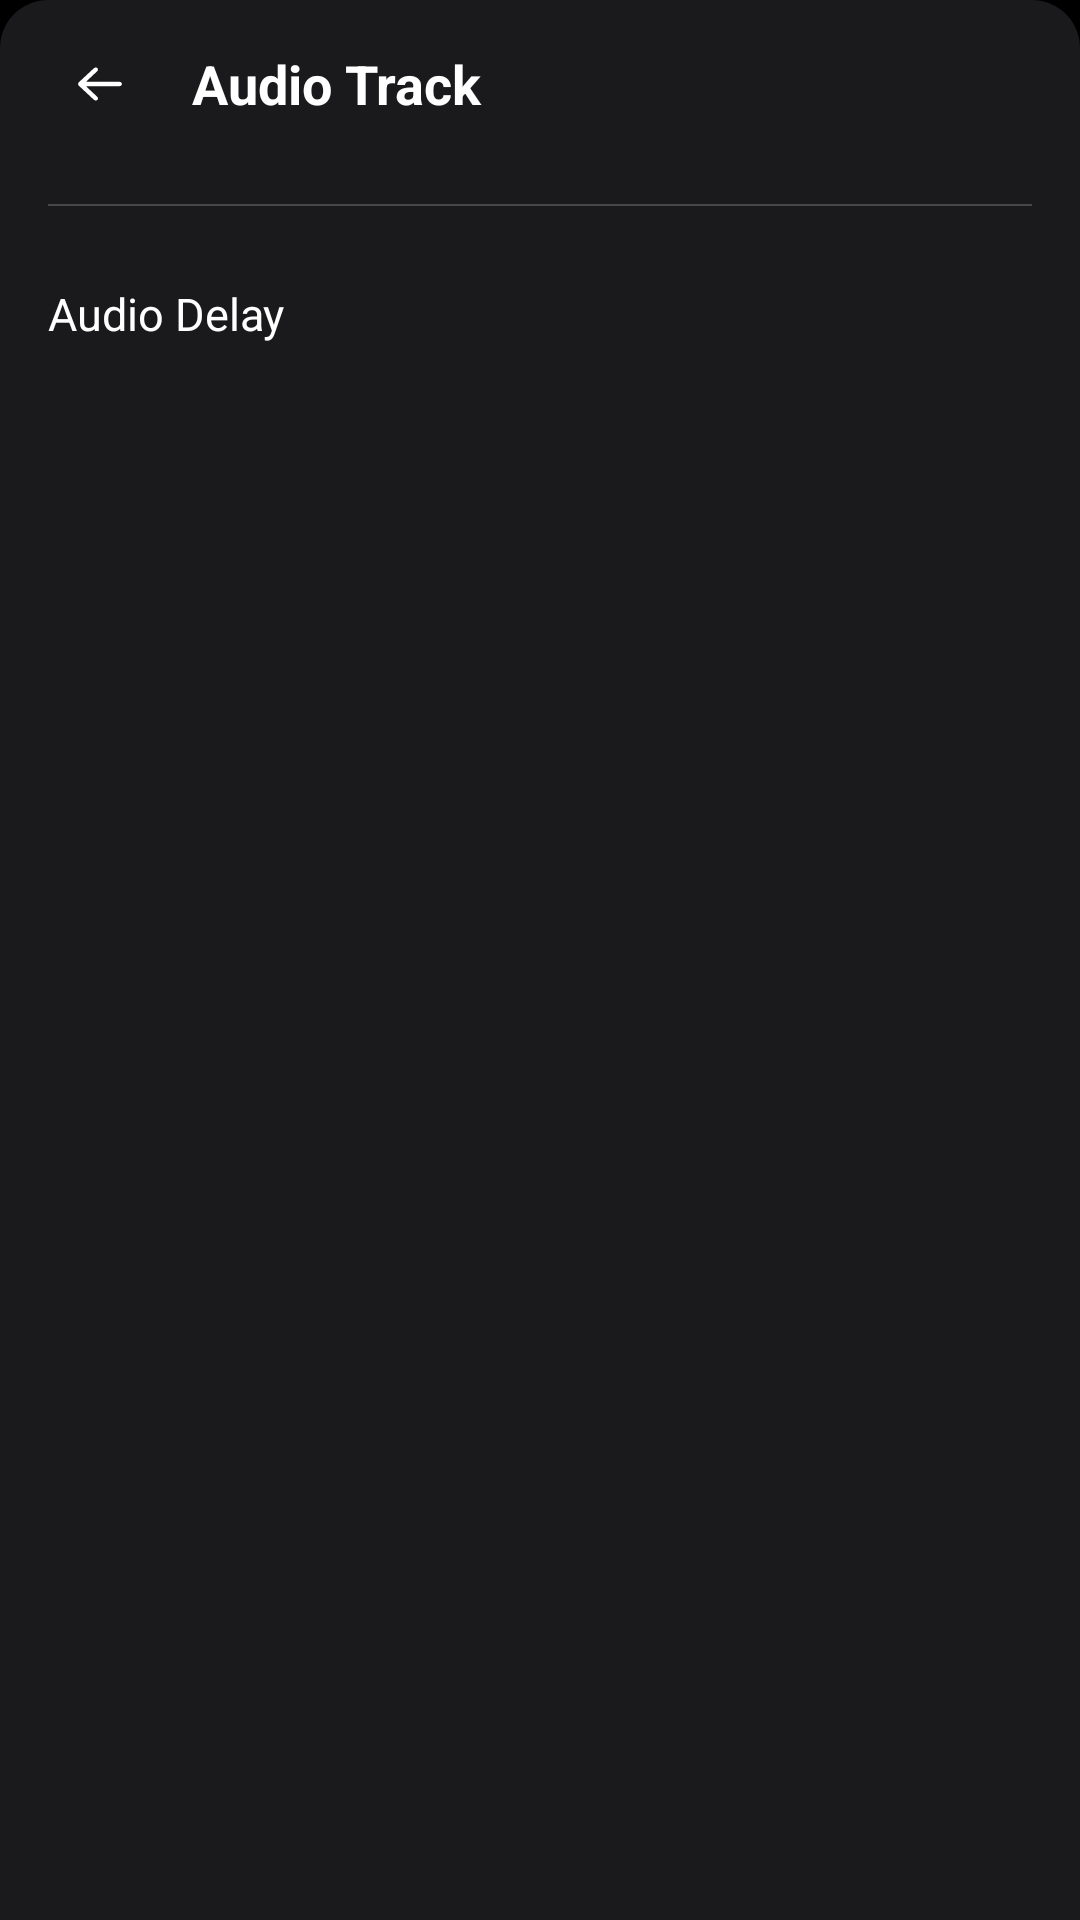

Icons on this 1080×1920 Android screen, each with the point to tap as point (x, y):
back: point (100, 84)
